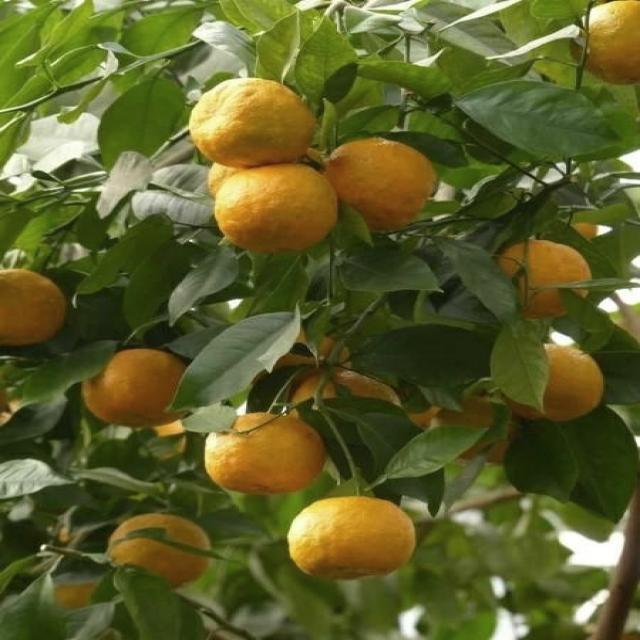Jeruk Sudah Matang: (189, 78, 312, 170), (330, 138, 440, 235), (292, 494, 416, 580), (208, 410, 332, 496), (492, 341, 613, 426), (222, 170, 336, 260), (82, 351, 210, 430), (112, 513, 212, 590), (498, 242, 596, 320), (576, 0, 640, 90), (0, 264, 70, 346), (278, 374, 420, 414), (52, 576, 102, 608)
